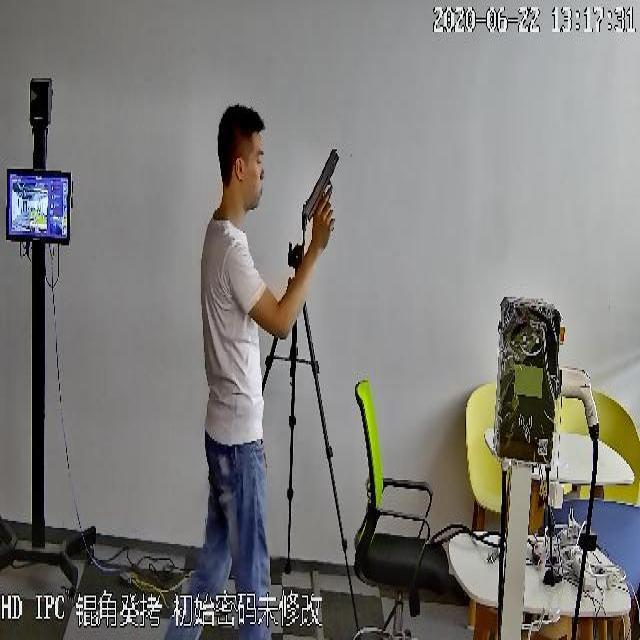pistol: (304, 142, 339, 228)
